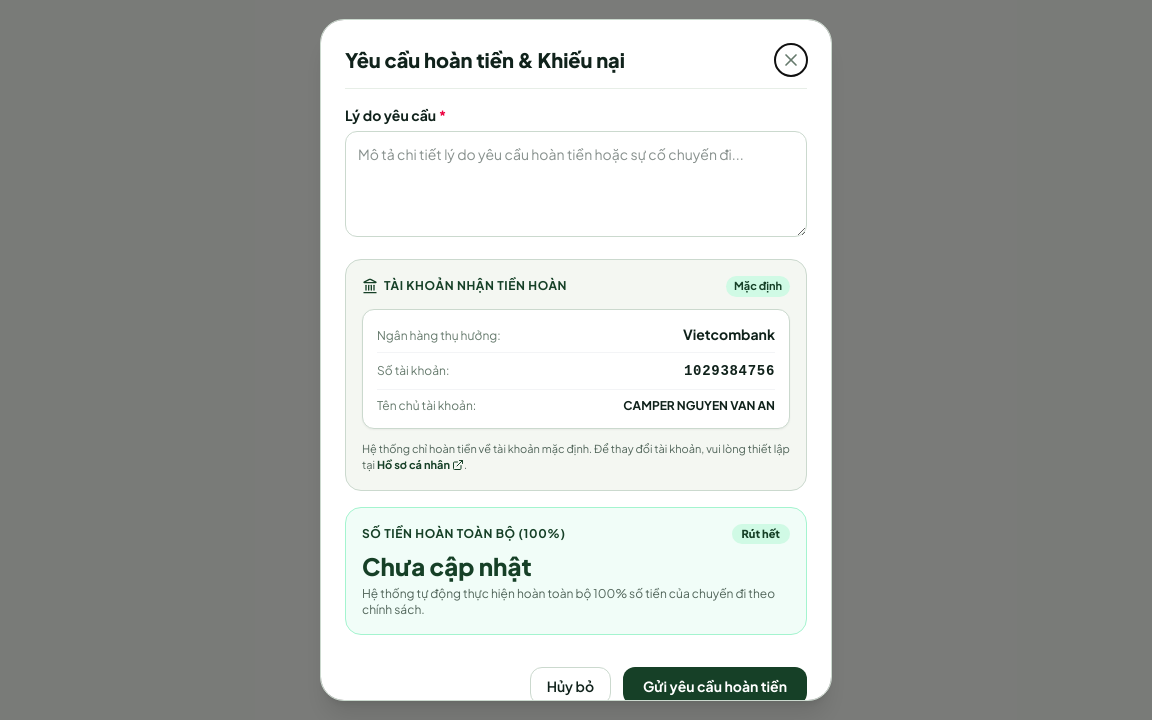
RefundRequestDialog › shows validation error when reason is too short
The width and height of the screenshot is (1152, 720).
In the text box with placeholder "Mô tả chi tiết lý do yêu cầu hoàn tiền": (576, 184) [345,131,807,237], type "Lỗi"
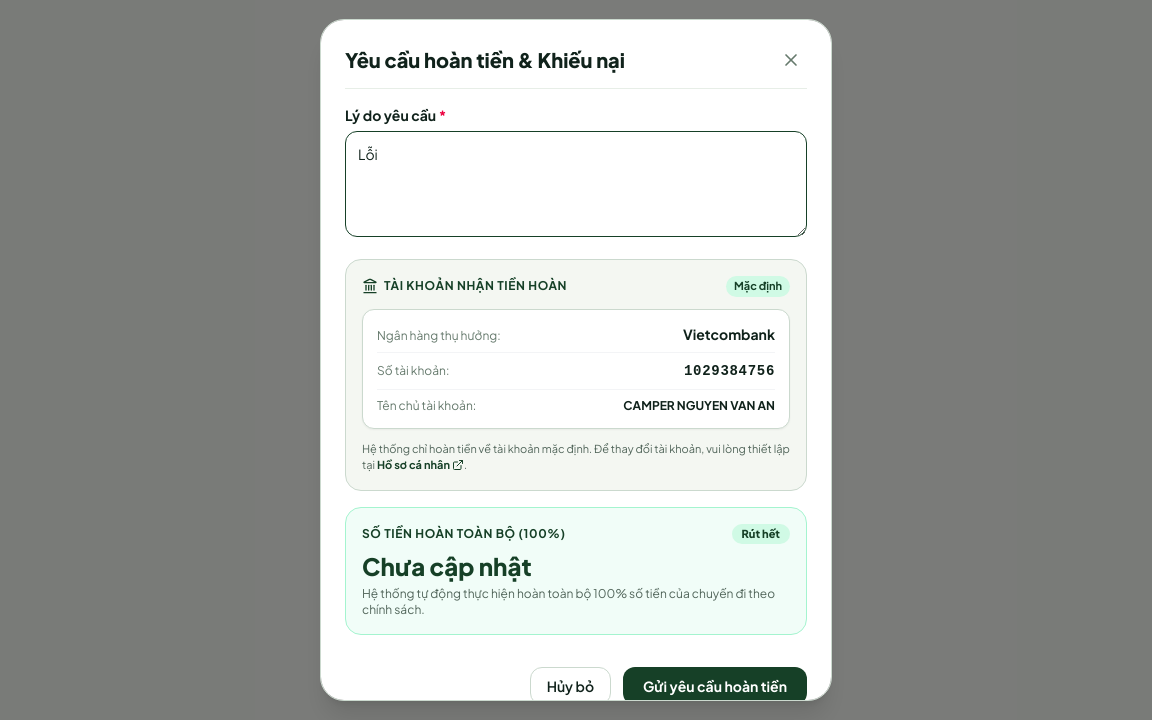
Click the button with test id "submit-refund-button": (715, 686) [623,667,807,705]
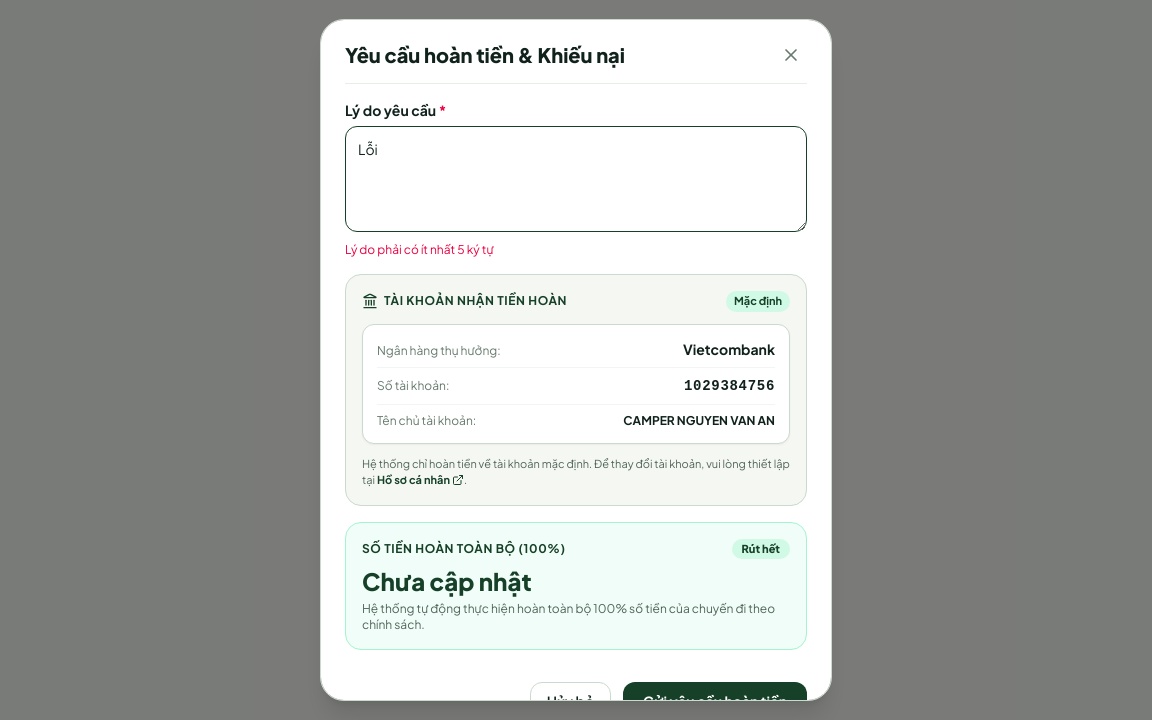
Now the text "Lý do phải có ít nhất 5 ký tự" is shown, box [345,242,494,257]
